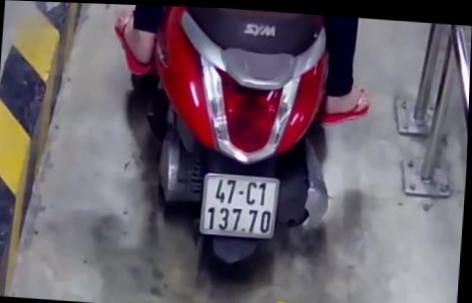LP: (198, 168, 283, 238)
